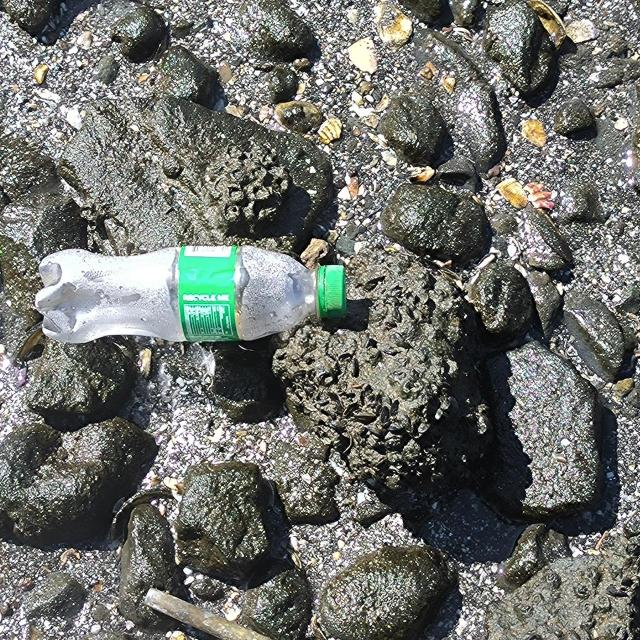plastic_waste: (35, 246, 346, 344)
